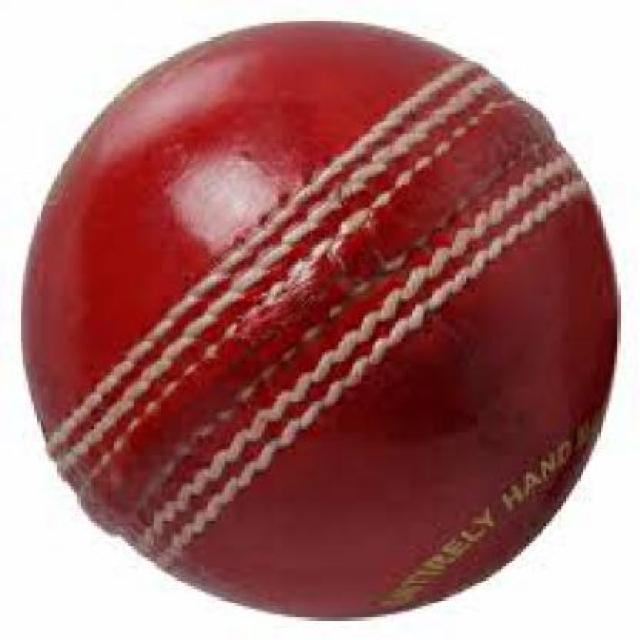ball: (5, 10, 640, 631)
